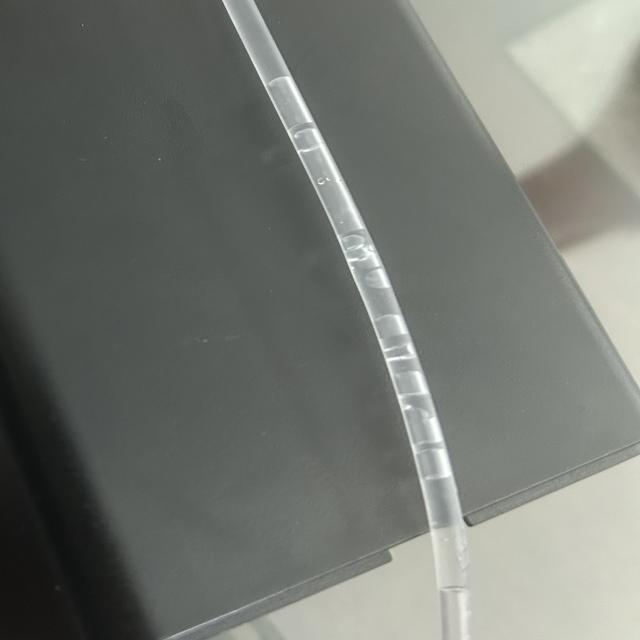bubble: (266, 73, 321, 126), (438, 580, 473, 640), (412, 446, 456, 483), (391, 369, 434, 398), (290, 125, 326, 158), (357, 268, 396, 298), (370, 313, 417, 337), (406, 425, 447, 445), (401, 403, 443, 420), (374, 345, 420, 359), (341, 235, 371, 249), (308, 171, 326, 190), (327, 173, 335, 183)
